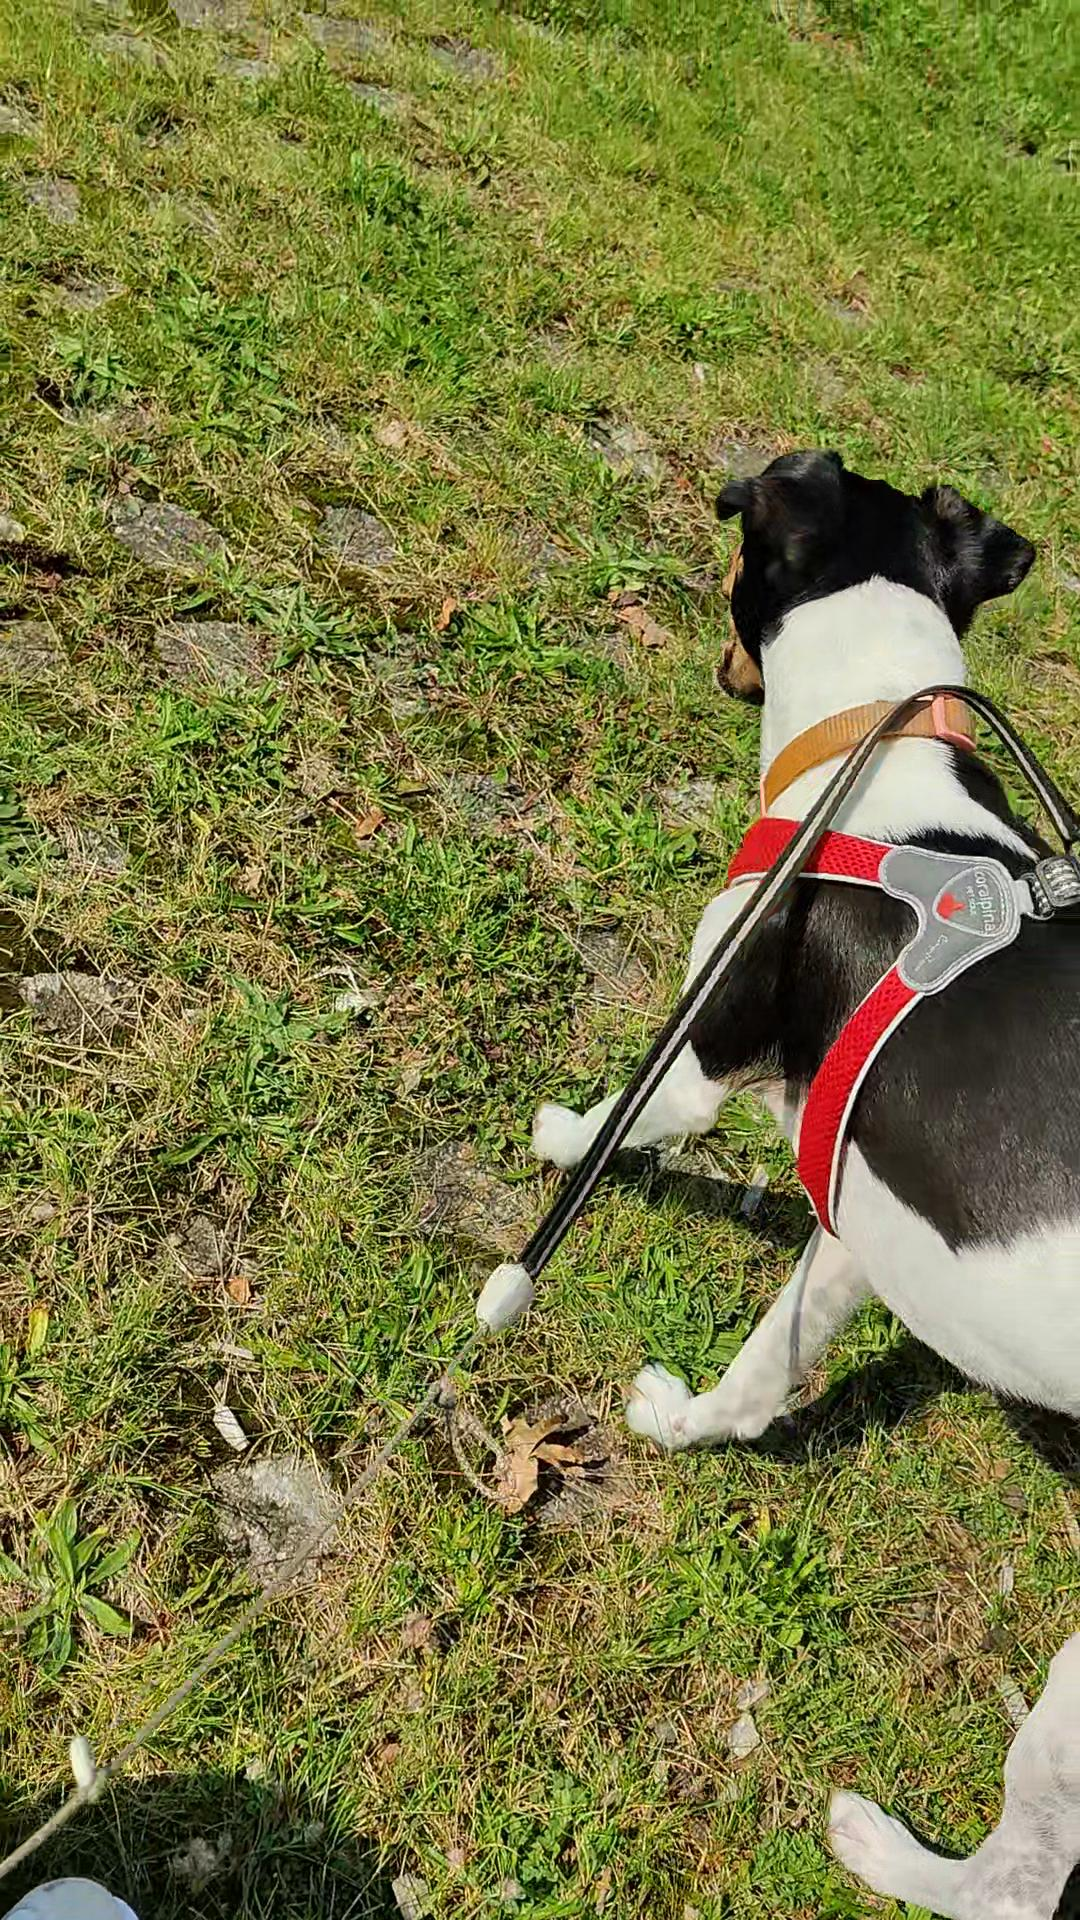Dog: (506, 410, 1079, 1919)
